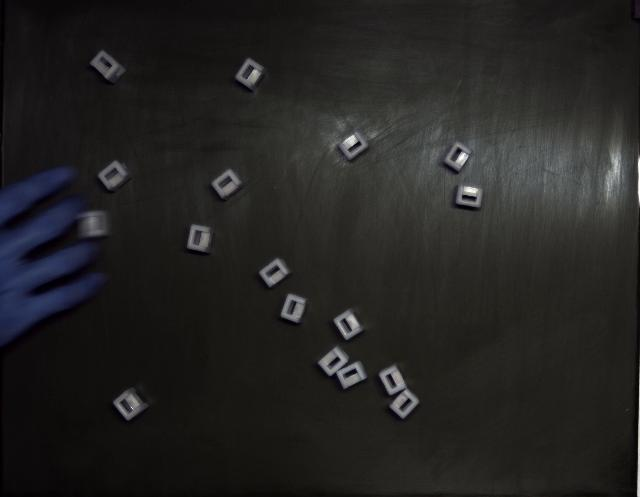fourth_side: (90, 50, 126, 84), (112, 389, 149, 421), (98, 160, 134, 191), (211, 169, 245, 200), (235, 58, 266, 91), (334, 309, 364, 340), (318, 346, 349, 376), (259, 259, 291, 288), (336, 361, 368, 390), (389, 389, 419, 419), (339, 131, 369, 160), (444, 141, 472, 172), (379, 364, 406, 396), (280, 294, 308, 324), (188, 225, 215, 254), (455, 185, 484, 209)
